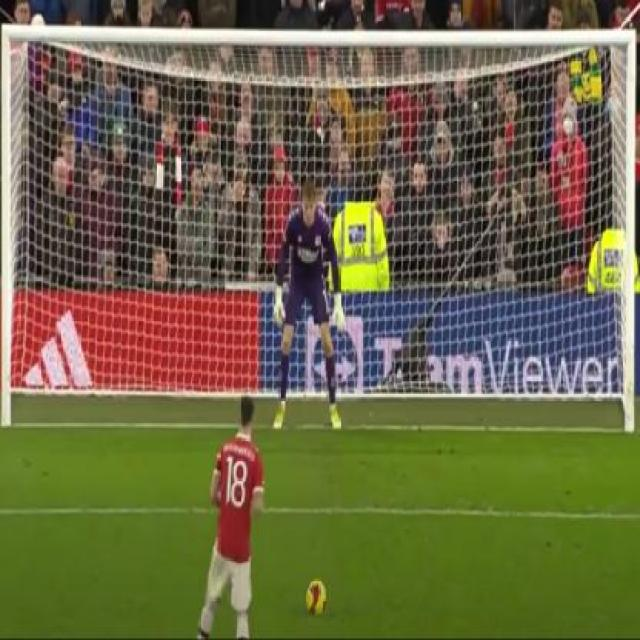ball: (304, 580, 334, 617)
cage: (0, 20, 638, 431)
gardien: (269, 172, 345, 430)
joueur: (194, 396, 266, 638)
